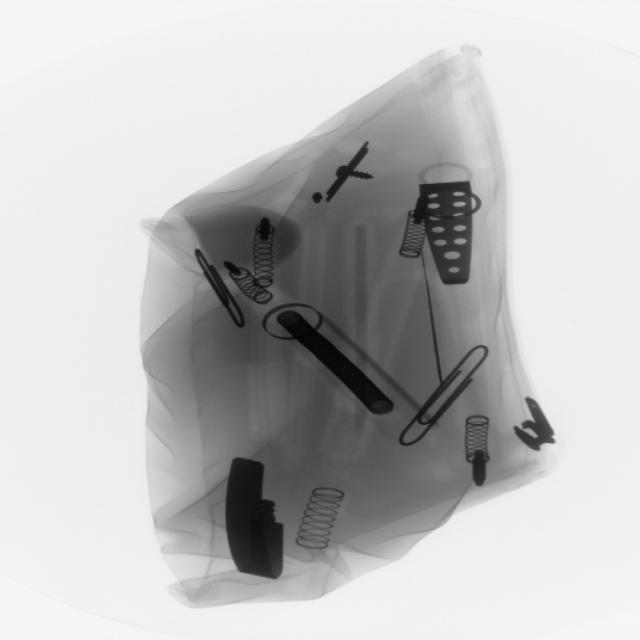GUN: (258, 312, 394, 424)
SCREW: (321, 142, 369, 203)
